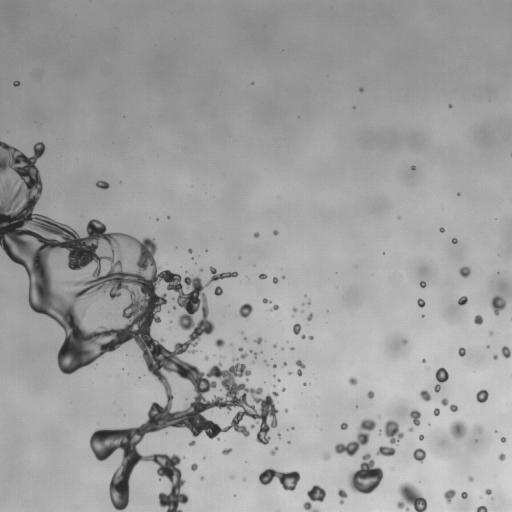droplet: (347, 452, 383, 494), (375, 419, 404, 457), (302, 484, 327, 511), (434, 367, 450, 393), (449, 419, 467, 439), (490, 295, 506, 315), (238, 303, 253, 317), (443, 488, 456, 504), (409, 409, 421, 426), (413, 448, 426, 463), (476, 389, 489, 403), (295, 360, 305, 376), (337, 488, 347, 504), (459, 266, 471, 278), (419, 389, 431, 401), (95, 180, 109, 189), (214, 338, 225, 349), (34, 157, 45, 168), (52, 212, 63, 223), (76, 226, 87, 237), (260, 228, 271, 239), (199, 271, 210, 282), (202, 285, 213, 296), (482, 305, 493, 316), (55, 330, 66, 341), (125, 338, 136, 349), (262, 346, 273, 357), (198, 362, 209, 373), (281, 375, 292, 386), (429, 395, 440, 406), (415, 399, 426, 410), (240, 415, 251, 426), (374, 418, 385, 429), (463, 420, 474, 431), (179, 425, 190, 436), (441, 426, 452, 437), (463, 428, 474, 439), (367, 429, 378, 440), (346, 431, 357, 442), (340, 433, 351, 444), (379, 435, 390, 446), (135, 443, 146, 454), (112, 448, 123, 459), (372, 456, 383, 467), (132, 462, 143, 473), (127, 474, 138, 485), (297, 480, 308, 491), (160, 482, 171, 493), (416, 486, 427, 497), (347, 488, 358, 499), (324, 489, 335, 500), (292, 323, 302, 335), (253, 336, 266, 345), (501, 346, 510, 358), (474, 314, 483, 325), (457, 296, 467, 305), (348, 376, 358, 385), (321, 451, 331, 460), (221, 447, 232, 455), (473, 425, 482, 434), (269, 446, 278, 455), (24, 148, 33, 157), (38, 171, 47, 180), (31, 205, 40, 214), (443, 230, 452, 239), (188, 269, 197, 278), (417, 289, 426, 298), (297, 316, 306, 325), (209, 330, 218, 339), (247, 331, 256, 340), (275, 366, 284, 375), (154, 381, 163, 390), (157, 397, 166, 406), (440, 405, 449, 414), (365, 411, 374, 420), (450, 411, 459, 420), (139, 414, 148, 423), (108, 421, 117, 430), (275, 422, 284, 431), (413, 425, 422, 434), (248, 427, 257, 436), (267, 427, 276, 436), (143, 431, 152, 440), (277, 439, 286, 448), (497, 443, 506, 452), (357, 444, 366, 453), (178, 485, 187, 494), (344, 485, 353, 494), (394, 492, 403, 501), (310, 499, 319, 508), (214, 286, 222, 295), (417, 298, 425, 307), (366, 390, 374, 399), (449, 404, 458, 412), (189, 462, 197, 471), (476, 505, 487, 511), (505, 299, 511, 310), (505, 451, 511, 462), (157, 505, 168, 511), (440, 398, 448, 406), (340, 422, 348, 430), (306, 312, 313, 321), (458, 347, 465, 356), (498, 452, 505, 461), (461, 491, 468, 499), (258, 273, 267, 279), (419, 280, 426, 287), (188, 439, 195, 446), (152, 252, 159, 259), (265, 275, 272, 282), (215, 278, 222, 285), (454, 292, 461, 299), (205, 314, 212, 321), (200, 332, 207, 339), (222, 337, 229, 344), (211, 344, 218, 351), (220, 344, 227, 351), (252, 344, 259, 351), (103, 350, 110, 357), (496, 351, 503, 358), (140, 362, 147, 369), (77, 366, 84, 373), (54, 367, 61, 374), (150, 374, 157, 381), (244, 381, 251, 388), (427, 387, 434, 394), (259, 392, 266, 399), (390, 414, 397, 421), (253, 424, 260, 431), (166, 425, 173, 432), (397, 425, 404, 432), (86, 429, 93, 436), (199, 430, 206, 437), (235, 431, 242, 438), (341, 438, 348, 445), (266, 441, 273, 448), (417, 441, 424, 448), (328, 446, 335, 453), (340, 450, 347, 457), (88, 452, 95, 459), (372, 461, 379, 468), (353, 463, 360, 470), (283, 466, 290, 473), (381, 469, 388, 476), (161, 475, 168, 482), (272, 476, 279, 483), (378, 479, 385, 486), (442, 484, 449, 491), (163, 487, 170, 494), (372, 487, 379, 494), (357, 491, 364, 498), (361, 492, 368, 499), (453, 492, 460, 499), (176, 502, 183, 509), (506, 434, 511, 443), (13, 80, 20, 86), (272, 276, 278, 283), (433, 408, 439, 415), (485, 489, 492, 495), (272, 229, 278, 235), (253, 232, 259, 238), (451, 238, 457, 244), (203, 355, 209, 361), (272, 391, 278, 397), (500, 436, 506, 442), (0, 246, 4, 255), (419, 434, 424, 441), (439, 227, 444, 233), (492, 354, 498, 359), (398, 507, 405, 511), (408, 507, 415, 511), (358, 87, 363, 92), (410, 165, 415, 170), (292, 307, 297, 312), (308, 335, 313, 340), (402, 339, 407, 344), (272, 343, 277, 348), (421, 358, 426, 363), (408, 427, 413, 432), (229, 474, 234, 479), (468, 476, 473, 481), (8, 79, 13, 84), (35, 137, 40, 142), (6, 140, 11, 145), (104, 177, 109, 182), (41, 186, 46, 191), (98, 187, 103, 192), (40, 189, 45, 194), (100, 218, 105, 223), (83, 220, 88, 225), (274, 225, 279, 230), (252, 227, 257, 232), (104, 228, 109, 233), (121, 228, 126, 233), (249, 229, 254, 234), (126, 230, 131, 235), (131, 232, 136, 237), (147, 234, 152, 239), (271, 234, 276, 239), (255, 236, 260, 241), (456, 236, 461, 241), (138, 237, 143, 242), (153, 239, 158, 244), (458, 262, 463, 267), (212, 263, 217, 268), (18, 264, 23, 269), (468, 264, 473, 269), (228, 267, 233, 272), (170, 268, 175, 273), (215, 269, 220, 274), (185, 272, 190, 277), (208, 272, 213, 277), (180, 274, 185, 279), (276, 274, 281, 279), (458, 274, 463, 279), (466, 274, 471, 279), (228, 276, 233, 281), (200, 280, 205, 285), (216, 294, 221, 299), (23, 296, 28, 301), (303, 297, 308, 302), (241, 299, 246, 304), (271, 299, 276, 304), (249, 301, 254, 306), (464, 301, 469, 306), (268, 302, 273, 307), (414, 304, 419, 309), (26, 305, 31, 310), (296, 305, 301, 310), (419, 306, 424, 311), (498, 308, 503, 313), (304, 311, 309, 316), (39, 312, 44, 317), (248, 312, 253, 317), (480, 313, 485, 318), (311, 315, 316, 320), (240, 316, 245, 321), (469, 316, 474, 321), (50, 318, 55, 323), (294, 318, 299, 323), (290, 320, 295, 325), (473, 322, 478, 327), (288, 328, 293, 333), (298, 329, 303, 334), (243, 331, 248, 336), (253, 334, 258, 339), (238, 342, 243, 347), (287, 342, 292, 347), (233, 344, 238, 349), (275, 345, 280, 350), (138, 349, 143, 354), (236, 350, 241, 355), (248, 352, 253, 357), (488, 352, 493, 357), (256, 353, 261, 358), (295, 355, 300, 360), (95, 357, 100, 362), (238, 358, 243, 363), (301, 359, 306, 364), (213, 360, 218, 365), (268, 360, 273, 365), (424, 360, 429, 365), (89, 361, 94, 366), (218, 365, 223, 370), (432, 367, 437, 372), (445, 367, 450, 372), (271, 368, 276, 373), (292, 371, 297, 376), (62, 372, 67, 377), (430, 372, 435, 377), (352, 373, 357, 378), (247, 374, 252, 379), (345, 374, 350, 379), (446, 377, 451, 382), (272, 378, 277, 383), (433, 379, 438, 384), (345, 381, 350, 386), (355, 381, 360, 386), (439, 381, 444, 386), (348, 383, 353, 388), (252, 384, 257, 389), (482, 385, 487, 390), (475, 386, 480, 391), (274, 387, 279, 392), (363, 388, 368, 393), (486, 388, 491, 393), (373, 391, 378, 396), (270, 394, 275, 399), (471, 394, 476, 399), (486, 396, 491, 401), (447, 400, 452, 405), (480, 401, 485, 406), (273, 403, 278, 408), (456, 403, 461, 408), (145, 405, 150, 410), (406, 408, 411, 413), (408, 416, 413, 421), (417, 416, 422, 421), (238, 420, 243, 425), (412, 424, 417, 429), (245, 425, 250, 430), (229, 426, 234, 431), (380, 429, 385, 434), (217, 431, 222, 436), (414, 433, 419, 438), (474, 433, 479, 438), (192, 435, 197, 440), (211, 436, 216, 441), (399, 437, 404, 442), (505, 437, 510, 442), (257, 441, 262, 446), (390, 443, 395, 448), (223, 444, 228, 449), (421, 445, 426, 450), (409, 448, 414, 453), (159, 449, 164, 454), (274, 449, 279, 454), (502, 449, 507, 454), (495, 450, 500, 455), (167, 452, 172, 457), (177, 453, 182, 458), (387, 454, 392, 459), (504, 454, 509, 459), (422, 457, 427, 462), (414, 459, 419, 464), (497, 459, 502, 464), (154, 463, 159, 468), (196, 464, 201, 469), (194, 468, 199, 473), (258, 468, 263, 473), (298, 471, 303, 476), (467, 471, 472, 476), (154, 473, 159, 478), (254, 473, 259, 478), (180, 474, 185, 479), (472, 474, 477, 479), (106, 477, 111, 482), (319, 483, 324, 488), (307, 485, 312, 490), (286, 489, 291, 494), (483, 493, 488, 498), (466, 494, 471, 499), (323, 495, 328, 500), (336, 495, 341, 500), (305, 496, 310, 501), (440, 496, 445, 501), (154, 497, 159, 502), (186, 498, 191, 503), (425, 499, 430, 504), (476, 501, 481, 506), (392, 503, 397, 508), (472, 505, 477, 510), (219, 355, 225, 359), (282, 361, 286, 367), (287, 371, 293, 375), (188, 248, 192, 253), (488, 331, 493, 335), (301, 334, 305, 339), (272, 363, 276, 368), (284, 408, 288, 413), (389, 467, 394, 471), (289, 347, 295, 350), (448, 104, 452, 108), (281, 275, 285, 279), (172, 305, 176, 309), (166, 309, 170, 313), (285, 339, 289, 343), (277, 378, 281, 382), (302, 382, 306, 386), (290, 426, 294, 430), (287, 440, 291, 444), (200, 476, 204, 480), (242, 477, 246, 481), (228, 343, 233, 346), (508, 346, 511, 351), (114, 508, 119, 511), (120, 508, 125, 511), (302, 508, 307, 511), (423, 508, 428, 511), (486, 508, 491, 511), (457, 192, 460, 196), (166, 216, 170, 219), (397, 216, 401, 219), (184, 270, 187, 274), (301, 303, 305, 306), (300, 310, 304, 313), (421, 314, 425, 317), (168, 320, 172, 323), (280, 347, 284, 350), (272, 374, 276, 377), (282, 387, 285, 391), (479, 495, 482, 499), (0, 187, 2, 192), (251, 82, 254, 85), (352, 106, 355, 109), (252, 264, 255, 267), (304, 294, 307, 297), (291, 314, 294, 317), (168, 327, 171, 330), (486, 345, 489, 348), (308, 382, 311, 385), (272, 384, 275, 387), (494, 430, 497, 433), (475, 439, 478, 442), (202, 456, 205, 459), (233, 494, 236, 497), (249, 79, 252, 82), (19, 82, 22, 85), (253, 82, 256, 85), (10, 83, 13, 86), (250, 84, 253, 87), (360, 84, 363, 87), (15, 85, 18, 88), (359, 91, 362, 94), (448, 100, 451, 103), (451, 103, 454, 106), (445, 104, 448, 107), (355, 106, 358, 109), (448, 107, 451, 110), (14, 145, 17, 148), (412, 162, 415, 165), (407, 166, 410, 169), (415, 166, 418, 169), (411, 169, 414, 172), (94, 179, 97, 182), (459, 191, 462, 194), (456, 195, 459, 198), (166, 212, 169, 215), (163, 215, 166, 218), (152, 217, 155, 220), (158, 218, 161, 221), (167, 218, 170, 221), (438, 224, 441, 227), (443, 226, 446, 229), (436, 229, 439, 232), (442, 231, 445, 234), (270, 232, 273, 235), (276, 233, 279, 236), (454, 235, 457, 238), (449, 241, 452, 244), (453, 243, 456, 246), (190, 246, 193, 249), (201, 248, 204, 251), (207, 248, 210, 251), (379, 250, 382, 253), (384, 251, 387, 254), (189, 253, 192, 256), (193, 256, 196, 259), (496, 268, 499, 271), (260, 270, 263, 273), (237, 271, 240, 274), (493, 271, 496, 274), (256, 272, 259, 275), (281, 272, 284, 275), (244, 277, 247, 280), (261, 278, 264, 281), (422, 278, 425, 281), (417, 279, 420, 282), (425, 281, 428, 284), (417, 284, 420, 287), (423, 286, 426, 289), (25, 291, 28, 294), (221, 291, 224, 294), (300, 294, 303, 297), (263, 295, 266, 298), (259, 297, 262, 300), (266, 297, 269, 300), (310, 300, 313, 303), (277, 303, 280, 306), (304, 303, 307, 306), (423, 304, 426, 307), (272, 309, 275, 312), (290, 310, 293, 313), (418, 314, 421, 317), (422, 316, 425, 319), (240, 335, 243, 338), (305, 335, 308, 338), (489, 335, 492, 338), (300, 338, 303, 341), (309, 339, 312, 342), (260, 340, 263, 343), (272, 340, 275, 343), (486, 341, 489, 344), (269, 344, 272, 347), (460, 344, 463, 347), (272, 347, 275, 350), (486, 347, 489, 350), (251, 349, 254, 352), (291, 349, 294, 352), (464, 350, 467, 353), (455, 351, 458, 354), (458, 355, 461, 358), (461, 355, 464, 358), (419, 357, 422, 360), (424, 357, 427, 360), (491, 358, 494, 361), (285, 360, 288, 363), (274, 361, 277, 364), (262, 362, 265, 365), (280, 362, 283, 365), (422, 362, 425, 365), (121, 364, 124, 367), (276, 364, 279, 367), (118, 367, 121, 370), (123, 368, 126, 371), (300, 368, 303, 371), (250, 370, 253, 373), (134, 375, 137, 378), (298, 375, 301, 378), (274, 376, 277, 379), (305, 382, 308, 385), (284, 388, 287, 391), (357, 403, 360, 406), (352, 404, 355, 407), (355, 407, 358, 410), (287, 409, 290, 412), (430, 410, 433, 413), (438, 412, 441, 415), (434, 415, 437, 418), (338, 421, 341, 424), (346, 422, 349, 425), (290, 423, 293, 426), (337, 425, 340, 428), (294, 426, 297, 429), (345, 427, 348, 430), (495, 427, 498, 430), (288, 428, 291, 431), (339, 428, 342, 431), (491, 428, 494, 431), (280, 434, 283, 437), (423, 434, 426, 437), (499, 434, 502, 437), (503, 434, 506, 437), (286, 437, 289, 440), (422, 437, 425, 440), (471, 439, 474, 442), (477, 439, 480, 442), (500, 441, 503, 444), (285, 442, 288, 445), (191, 444, 194, 447), (277, 445, 280, 448), (228, 451, 231, 454), (205, 456, 208, 459), (203, 476, 206, 479), (472, 479, 475, 482), (488, 486, 491, 489), (463, 488, 466, 491), (232, 490, 235, 493), (488, 493, 491, 496), (232, 496, 235, 499), (460, 497, 463, 500), (464, 497, 467, 500), (338, 503, 341, 506), (156, 218, 158, 221), (238, 256, 240, 259), (326, 309, 328, 312), (138, 376, 140, 379), (219, 388, 221, 391), (355, 405, 358, 407), (428, 423, 430, 426), (165, 431, 167, 434), (490, 497, 493, 499), (509, 352, 511, 355), (119, 181, 121, 183), (205, 249, 207, 251), (382, 252, 384, 254), (191, 257, 193, 259), (497, 272, 499, 274), (213, 354, 215, 356), (122, 368, 124, 370), (286, 429, 288, 431), (0, 183, 1, 186), (176, 246, 177, 248), (271, 358, 272, 360), (495, 218, 496, 219), (264, 381, 265, 382)
ligament: (334, 417, 376, 457), (257, 467, 300, 492), (266, 304, 279, 312), (240, 331, 248, 343), (262, 298, 271, 303), (263, 359, 269, 366), (277, 432, 281, 439), (307, 299, 310, 306), (378, 429, 381, 436), (510, 152, 511, 157), (277, 400, 278, 403), (198, 255, 199, 257)
